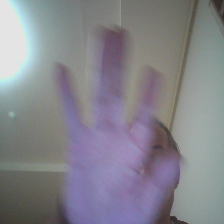hand: (55, 23, 175, 223)
